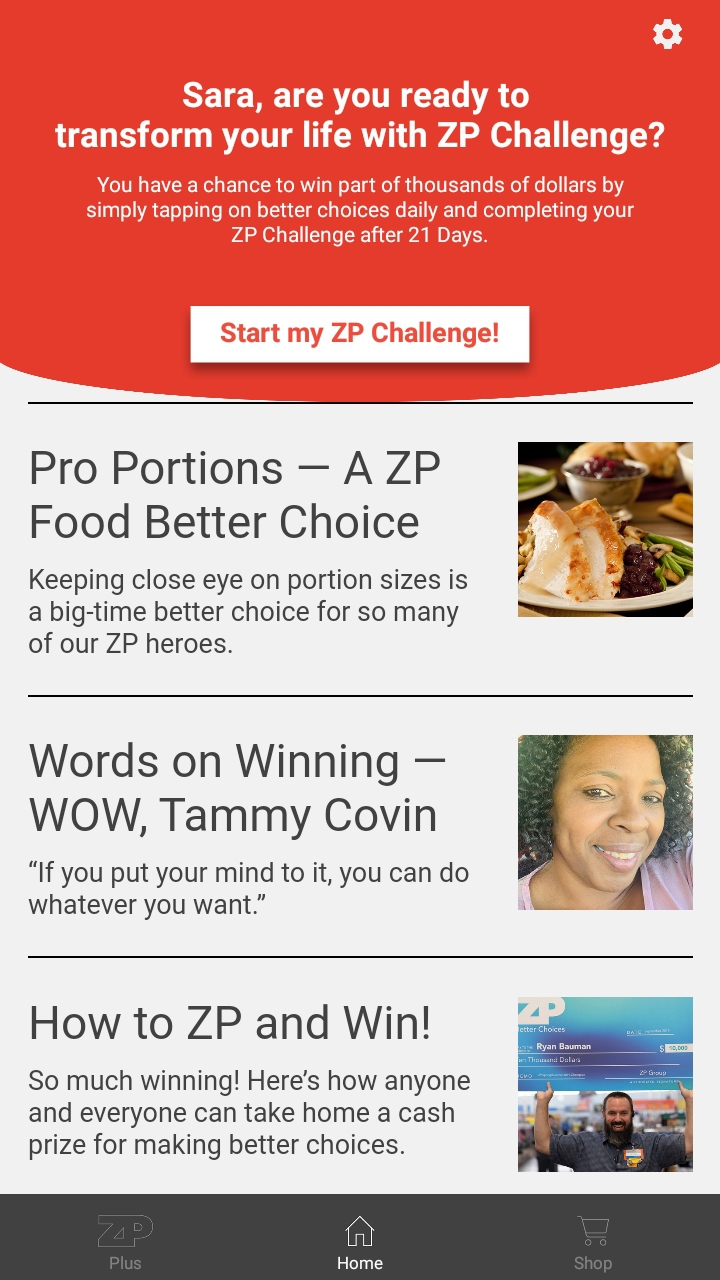Icon: (577, 1216, 611, 1247), (345, 1216, 376, 1247), (653, 19, 682, 50)
Image: (517, 735, 693, 910), (518, 442, 693, 618), (518, 997, 693, 1172), (98, 1215, 155, 1247)
Text: (55, 81, 664, 157), (30, 742, 445, 840), (29, 1070, 471, 1161), (87, 176, 634, 247), (30, 569, 467, 654), (32, 451, 441, 539), (29, 860, 469, 921), (32, 1004, 430, 1040), (574, 1255, 612, 1273), (338, 1256, 384, 1270), (110, 1255, 142, 1270)
TextButton: (190, 306, 530, 363)
